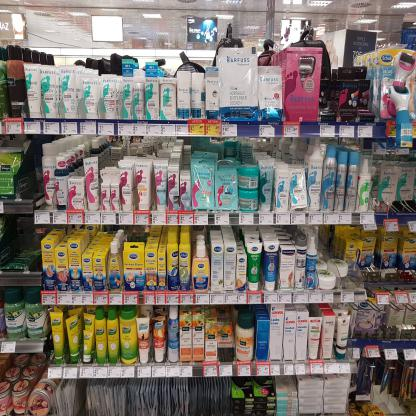Void: (8, 219, 30, 256), (316, 233, 336, 266), (32, 146, 41, 197), (176, 142, 190, 167), (102, 141, 116, 164), (221, 348, 231, 361)
